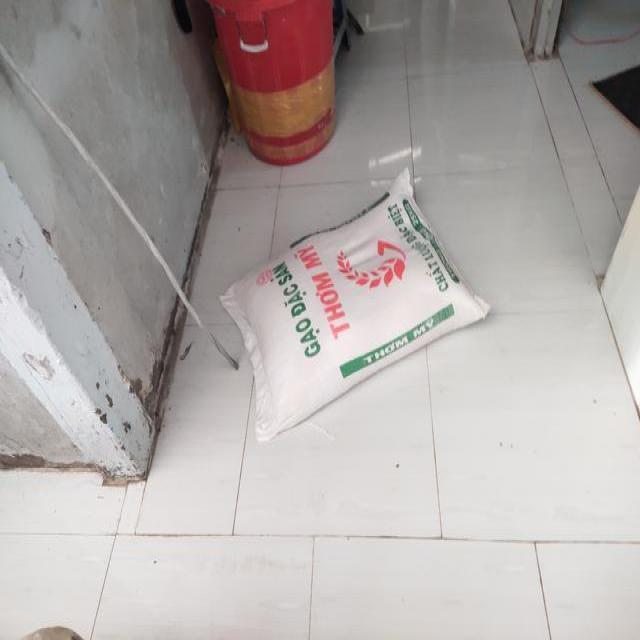gunny_bag: (221, 169, 490, 441)
